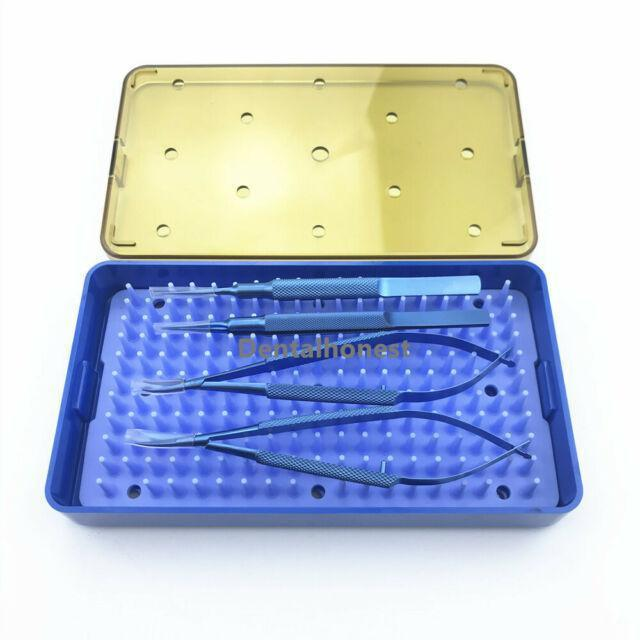Castroviejo: (137, 326, 518, 408)
Potts: (127, 406, 536, 490)
